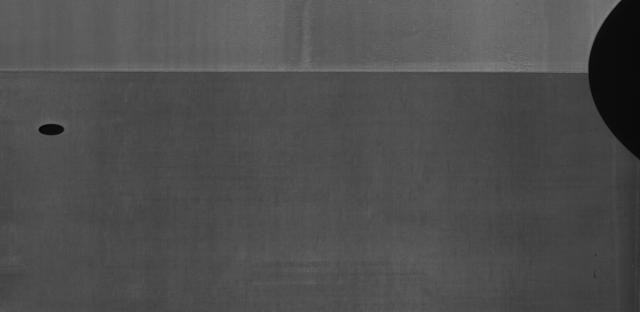punching_hole: (34, 118, 70, 140)
welding_line: (0, 64, 598, 83)
